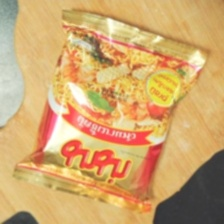snack: (6, 2, 216, 219)
